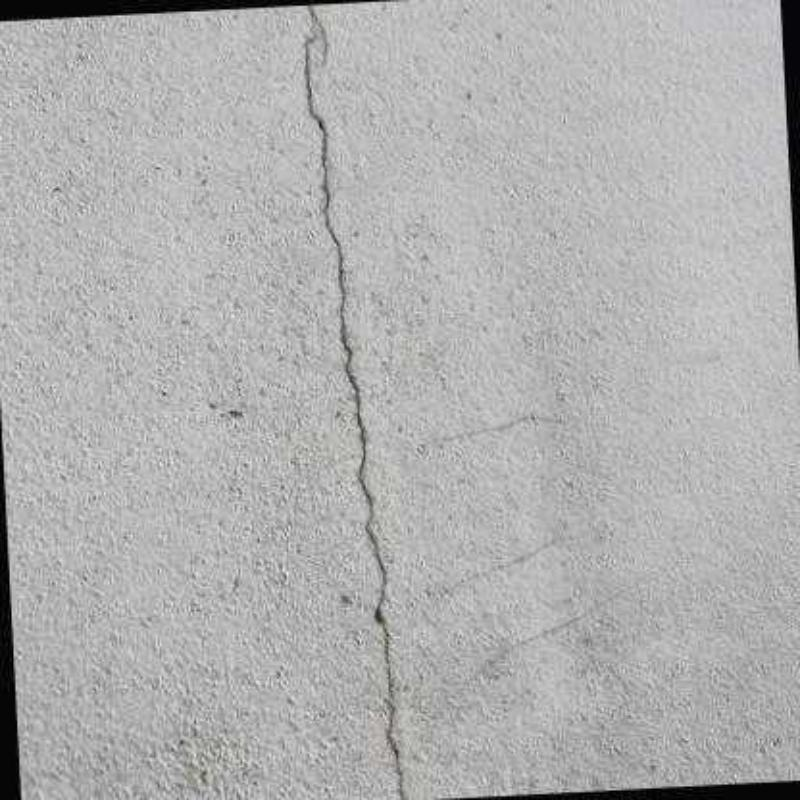crack: (302, 4, 406, 800)
